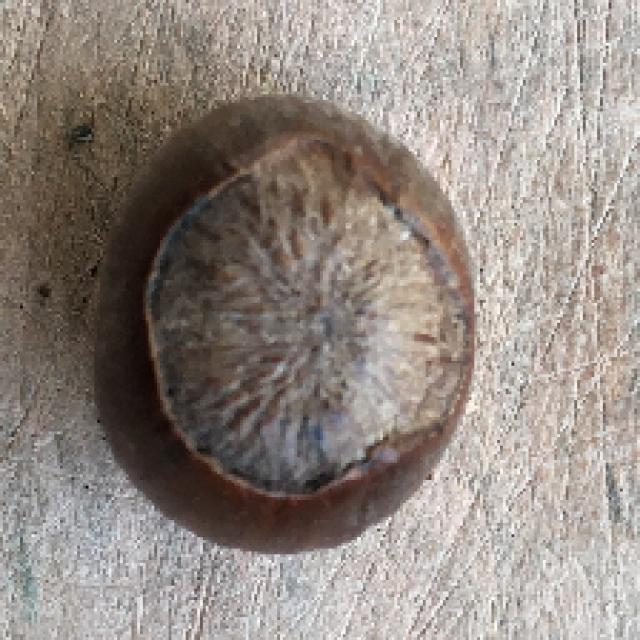damagedHazelnut: (92, 95, 486, 564)
